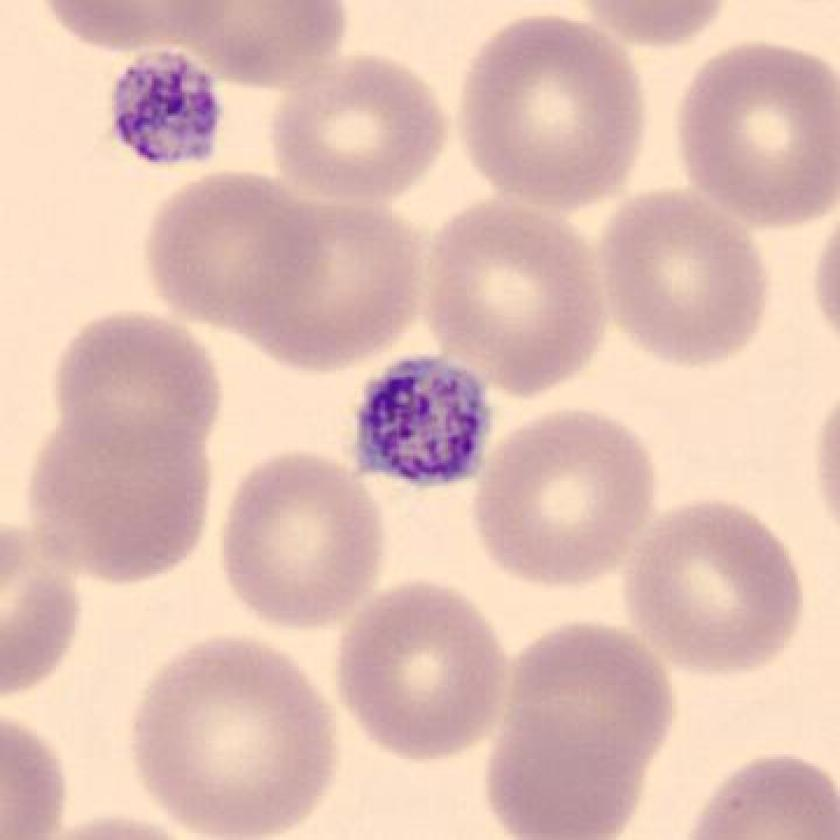platelets: (349, 358, 500, 492), (106, 43, 230, 175)
